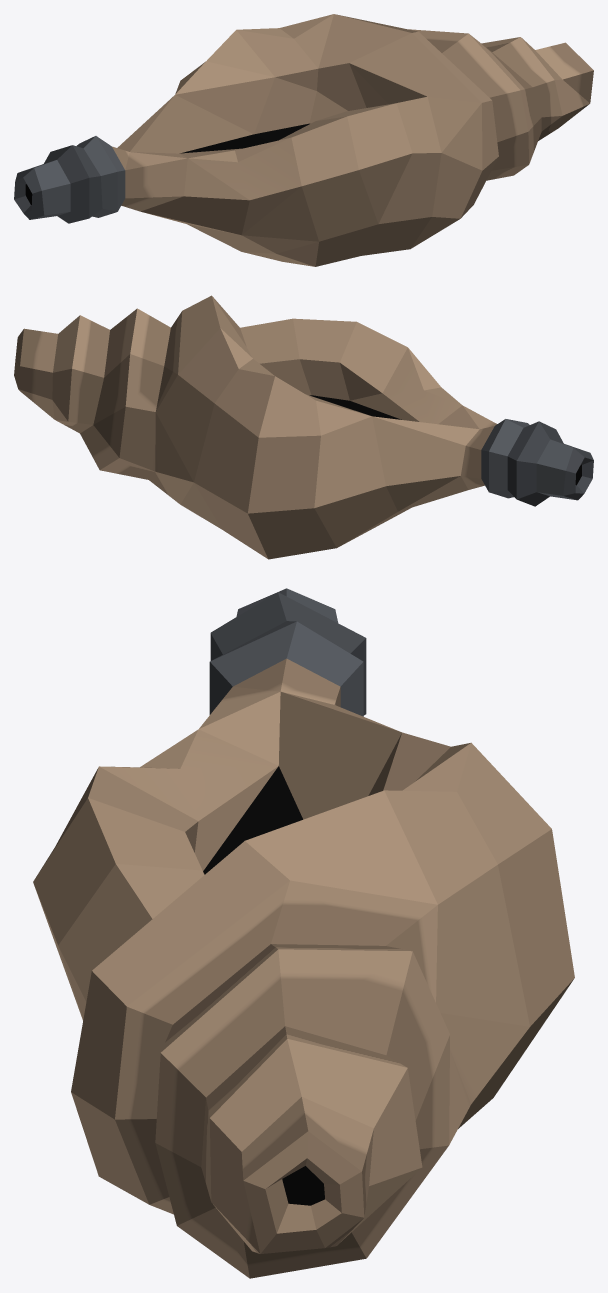
Rendered from SM_Prop_Flute_03.fbx.
The picture shows the model from 3 angles, top to bottom: view 1: azimuth 30°, elevation 25°; view 2: azimuth 150°, elevation 25°; view 3: azimuth 270°, elevation 25°; orthographic projection. The views are drawn at different scales.
Parts seen in each view (by area): view 1: SM_Prop_Flute_03; view 2: SM_Prop_Flute_03; view 3: SM_Prop_Flute_03.
Part boxes in pixels (x1=…): SM_Prop_Flute_03: x1=14, y1=14, x2=593, y2=266; SM_Prop_Flute_03: x1=14, y1=295, x2=593, y2=559; SM_Prop_Flute_03: x1=33, y1=588, x2=574, y2=1278.
Bounding box in the file's own units: 39.6 × 14.02 × 16.52.
